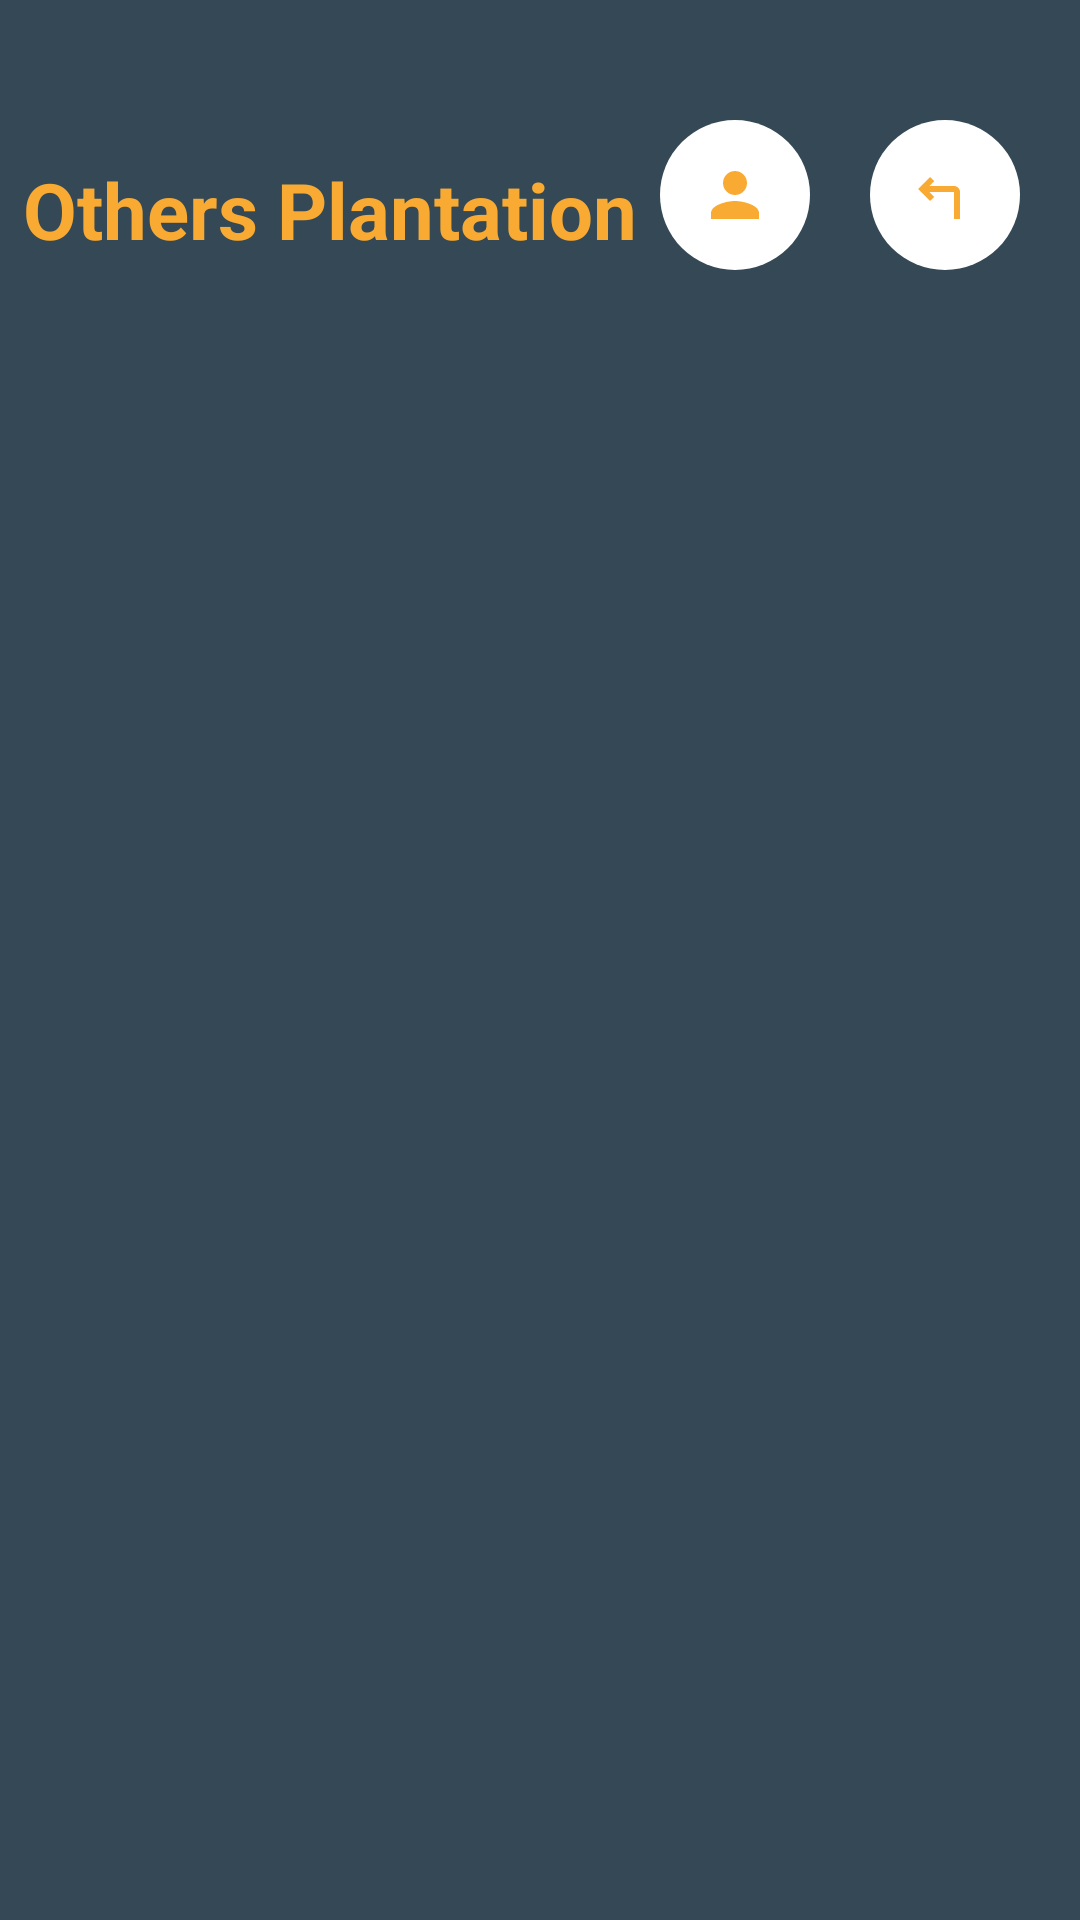

Icons on this 1080 × 1920 Android screen, each with the point to tap as (x=x, y=y):
person: (x=735, y=195)
turn left: (x=945, y=195)
